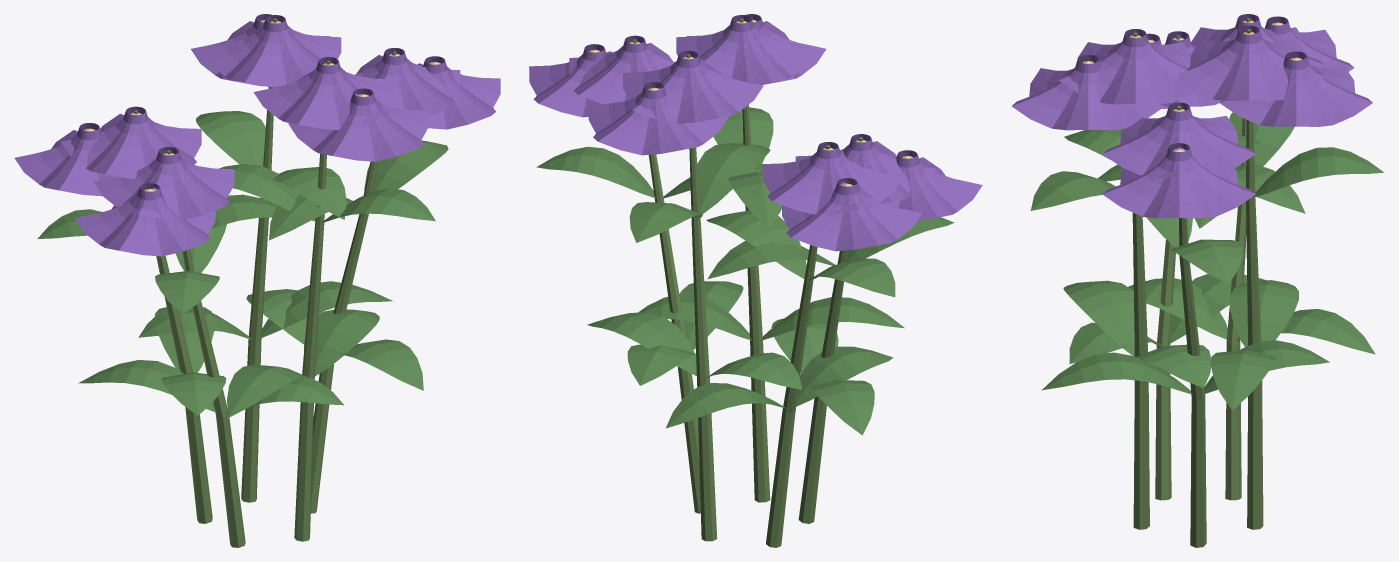
The model's file is purple-bell.glb.
The picture shows the model from 3 angles, left to right: view 1: azimuth 30°, elevation 25°; view 2: azimuth 150°, elevation 25°; view 3: azimuth 270°, elevation 25°; orthographic projection. The views are drawn at different scales.
Parts seen in each view (by area): view 1: purple-bell; view 2: purple-bell; view 3: purple-bell.
Part boxes in pixels (x1,y1,x2,y2): purple-bell: (14, 14, 500, 547); purple-bell: (529, 14, 982, 547); purple-bell: (1011, 14, 1383, 547).
Bounding box in the file's own units: 0.2603 × 0.2827 × 0.1877.
